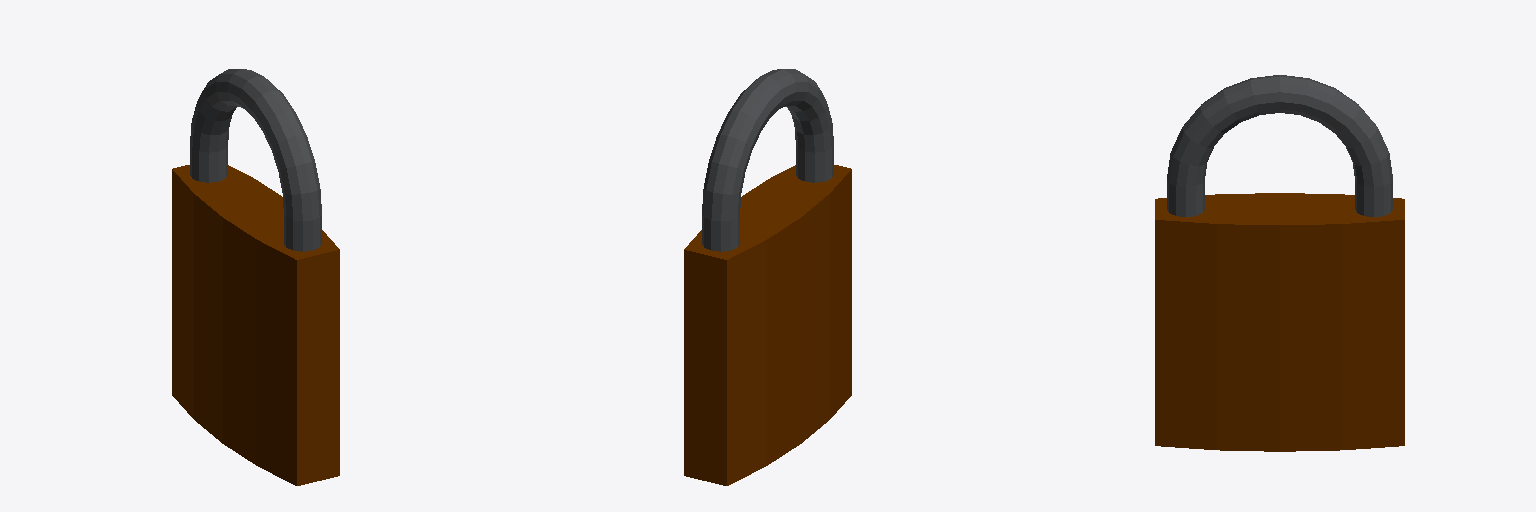
Rendered from gizmo_lock_closed.sgm.obj.
The picture shows the model from 3 angles: view 1: azimuth 30°, elevation 25°; view 2: azimuth 150°, elevation 25°; view 3: azimuth 270°, elevation 25°; orthographic projection.
Parts seen in each view (by area): view 1: 0, 1; view 2: 0, 1; view 3: 0, 1.
Boxes of the visible parts, x1=… form: 0: x1=172, y1=165, x2=339, y2=485; 1: x1=190, y1=69, x2=321, y2=251; 0: x1=684, y1=165, x2=851, y2=485; 1: x1=702, y1=69, x2=833, y2=251; 0: x1=1155, y1=193, x2=1404, y2=451; 1: x1=1167, y1=75, x2=1392, y2=216.
Size of the model in its own units: 0.0324 by 0.1666 by 0.105.